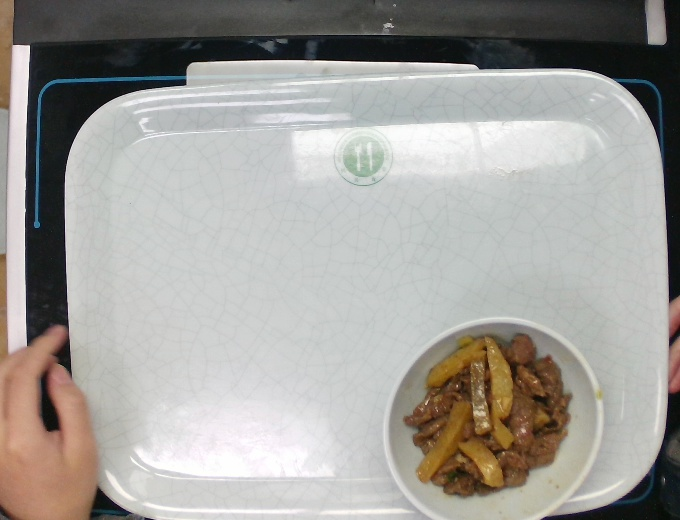JYsf-Fan_Wan: (380, 314, 606, 520)
